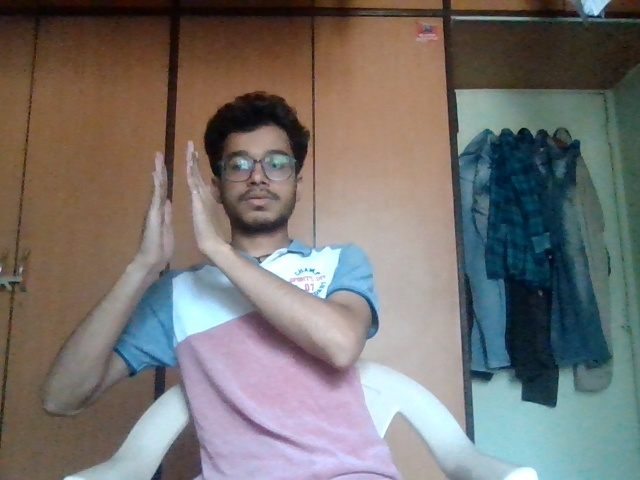morning: (130, 135, 242, 278)
